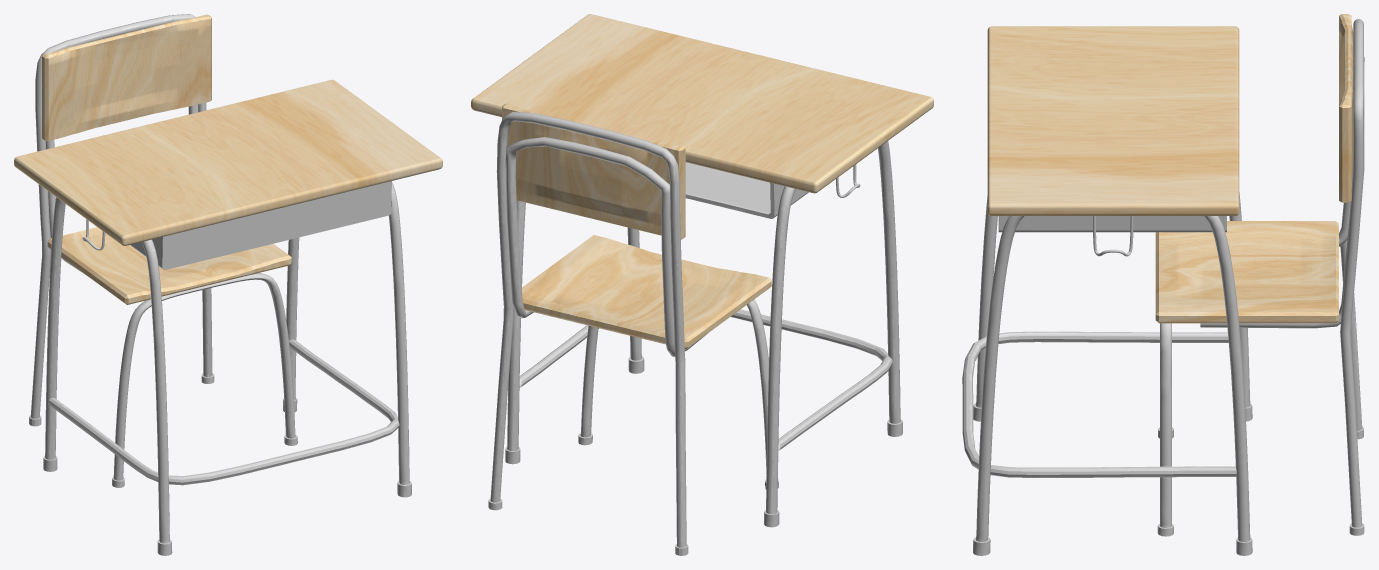
Rendered from studentdesk1.gltf.
3 renders of one model, left to right at view 1: azimuth 30°, elevation 25°; view 2: azimuth 150°, elevation 25°; view 3: azimuth 270°, elevation 25°, orthographic. The views are drawn at different scales.
Visible parts, largest first — view 1: TAPA4, RESPALDO1, CAJON, ASIENTO1, PATAS_D2, PATAS_T, UNION, PATAS_D1, PATAS_D; view 2: TAPA4, ASIENTO1, RESPALDO1, PATAS_T, PATAS_D2, EXTRA, UNION, CAJON, PATAS_D1, PATAS_D; view 3: TAPA4, ASIENTO1, PATAS_D1, PATAS_T, UNION, CAJON, PATAS_D2, RESPALDO1, PATAS_D, EXTRA.
Part boxes in pixels (x1=…): TAPA4: x1=14, y1=79, x2=442, y2=245; RESPALDO1: x1=42, y1=14, x2=211, y2=141; CAJON: x1=130, y1=181, x2=391, y2=269; ASIENTO1: x1=47, y1=227, x2=291, y2=304; PATAS_D2: x1=43, y1=197, x2=172, y2=555; PATAS_T: x1=29, y1=14, x2=214, y2=426; UNION: x1=48, y1=339, x2=399, y2=485; PATAS_D1: x1=283, y1=181, x2=411, y2=497; PATAS_D: x1=112, y1=273, x2=297, y2=487; TAPA4: x1=471, y1=14, x2=933, y2=193; ASIENTO1: x1=522, y1=235, x2=771, y2=349; RESPALDO1: x1=502, y1=103, x2=685, y2=239; PATAS_T: x1=488, y1=111, x2=688, y2=555; PATAS_D2: x1=764, y1=141, x2=902, y2=527; EXTRA: x1=505, y1=137, x2=706, y2=356; UNION: x1=519, y1=309, x2=892, y2=450; CAJON: x1=685, y1=162, x2=808, y2=218; PATAS_D1: x1=505, y1=200, x2=644, y2=464; PATAS_D: x1=578, y1=299, x2=778, y2=489; TAPA4: x1=987, y1=26, x2=1239, y2=215; ASIENTO1: x1=1155, y1=221, x2=1338, y2=323; PATAS_D1: x1=973, y1=216, x2=1252, y2=555; PATAS_T: x1=1340, y1=19, x2=1364, y2=535; UNION: x1=962, y1=331, x2=1236, y2=477; CAJON: x1=998, y1=216, x2=1226, y2=232; PATAS_D2: x1=973, y1=192, x2=1252, y2=421; RESPALDO1: x1=1339, y1=14, x2=1353, y2=202; PATAS_D: x1=1157, y1=323, x2=1173, y2=536; EXTRA: x1=1200, y1=57, x2=1364, y2=328.
Bounding box in the file's own units: 1.37 × 1.53 × 1.3.
2 materials, 2 textured.
